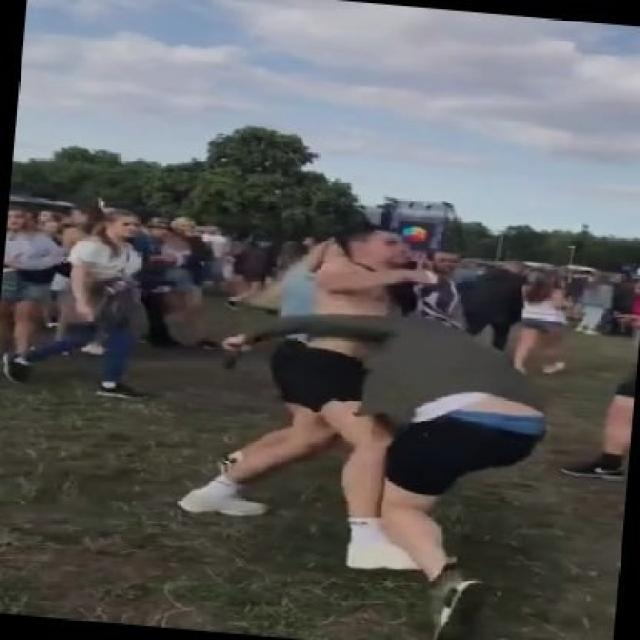fight: (179, 224, 561, 639)
non-fight: (1, 205, 144, 408)
